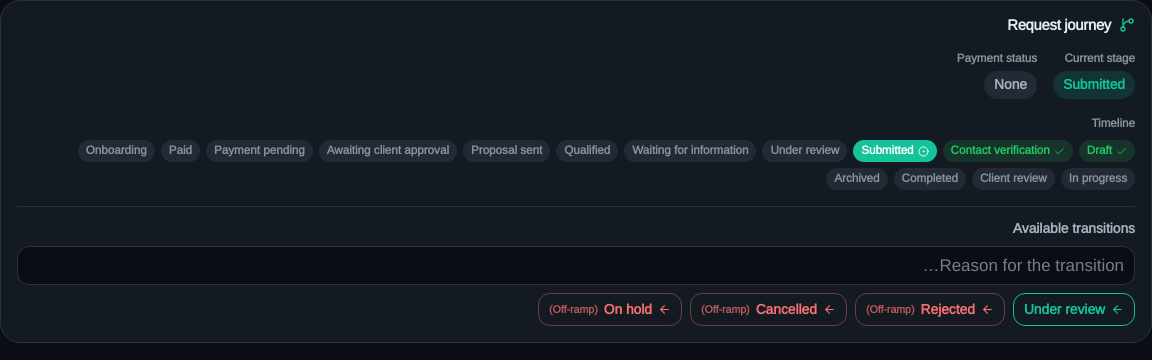
Scenario: JourneyControl › runs a transition through the real endpoint and reflects the new stage
Click the button "Under review" at (1074, 310), box [1013,293,1135,326]
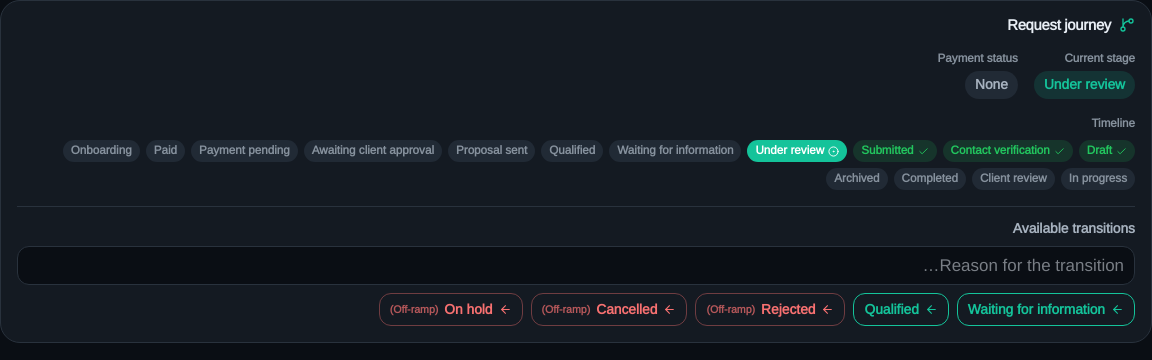
Expected: the button "Qualified" is shown, [854,293,949,326]
